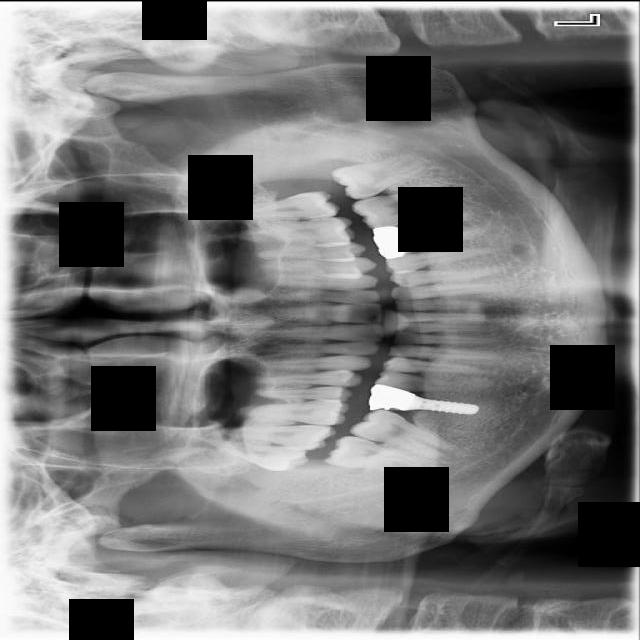3M ESPE Implant: (197, 432, 310, 475)
52: (369, 215, 417, 264)
73: (404, 206, 485, 253), (572, 30, 578, 34)
BioHorizons Implant: (224, 188, 340, 223)
Biomet 3i Implant: (329, 147, 436, 204)
Blue Sky Bio Implant: (350, 175, 463, 235)
Caries: (223, 424, 337, 452)
Implant: (348, 400, 459, 463)
Keystone Dental Implant: (321, 432, 426, 475)
